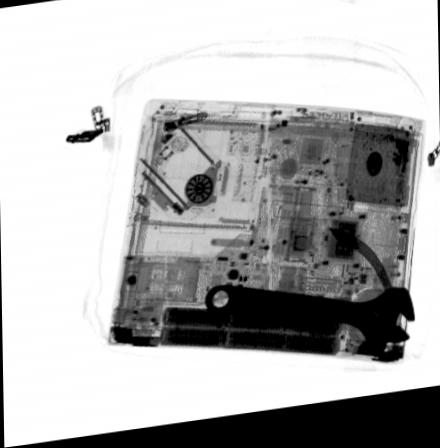Wrench: (202, 290, 414, 354)
